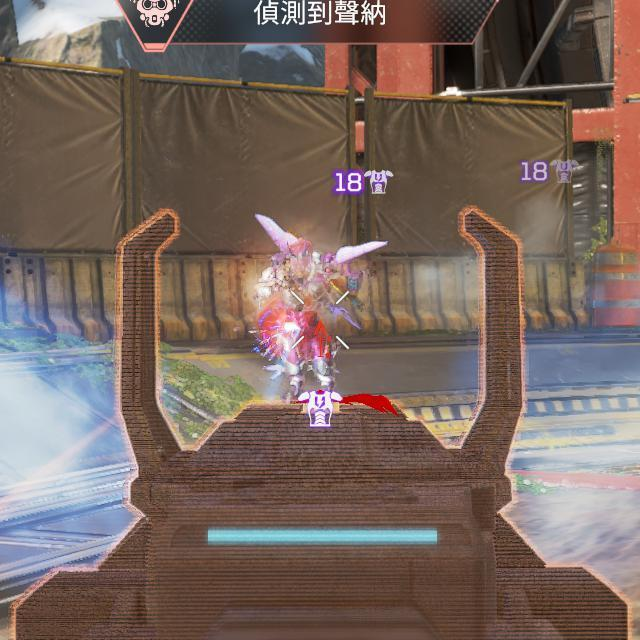avatar: (254, 236, 349, 396)
